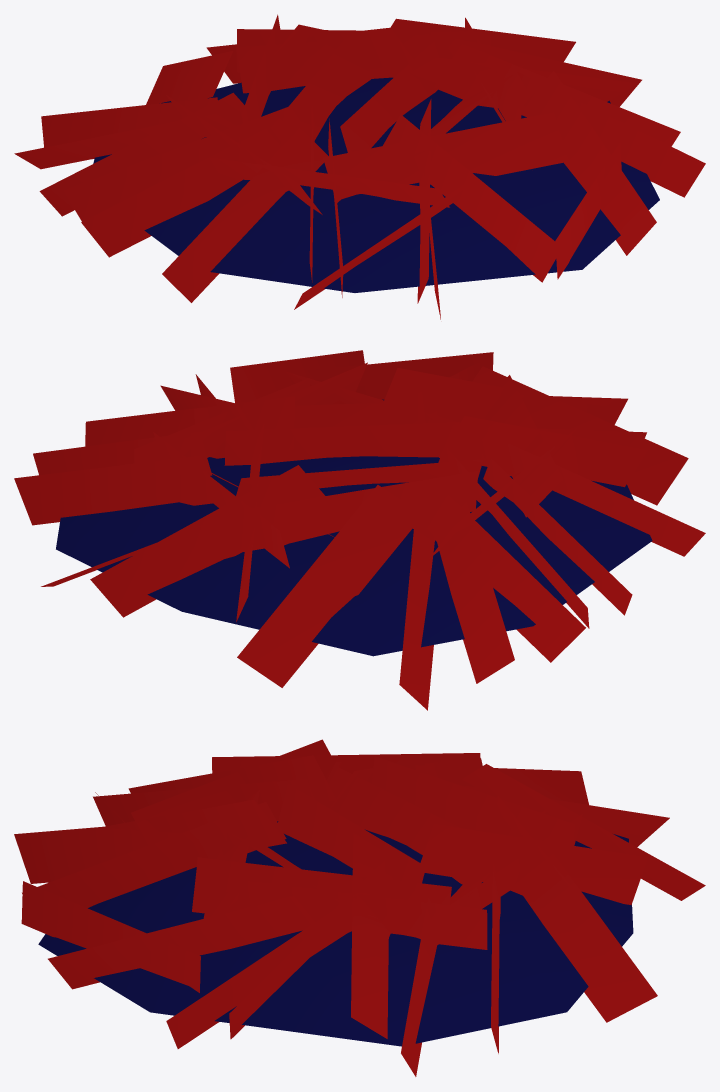
The model's file is Moss_large.fbx.
The picture shows the model from 3 angles, top to bottom: view 1: azimuth 30°, elevation 25°; view 2: azimuth 150°, elevation 25°; view 3: azimuth 270°, elevation 25°; orthographic projection. The views are drawn at different scales.
Visible parts, largest first — view 1: Moss_large; view 2: Moss_large; view 3: Moss_large.
Boxes of the visible parts, <box> form: Moss_large: <box>14,14,705,319</box>; Moss_large: <box>14,350,705,710</box>; Moss_large: <box>14,739,705,1076</box>.
Bounding box in the file's own units: 2.68 × 0.6595 × 2.64.
